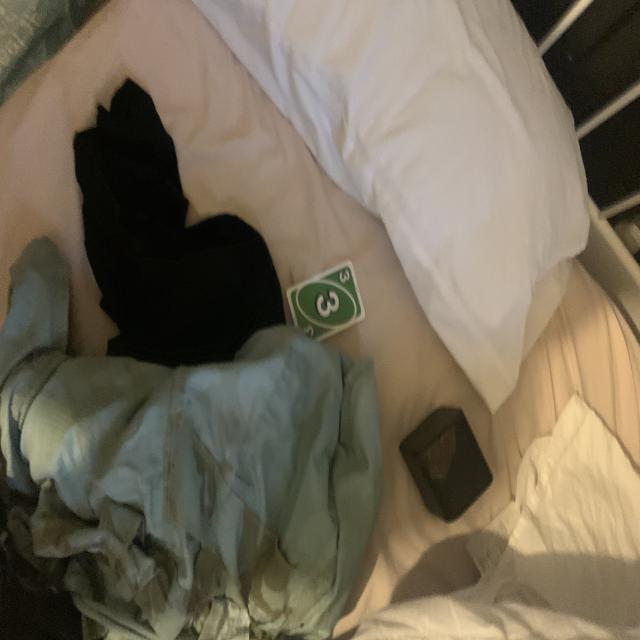lgreen-3: (337, 265, 352, 286)
